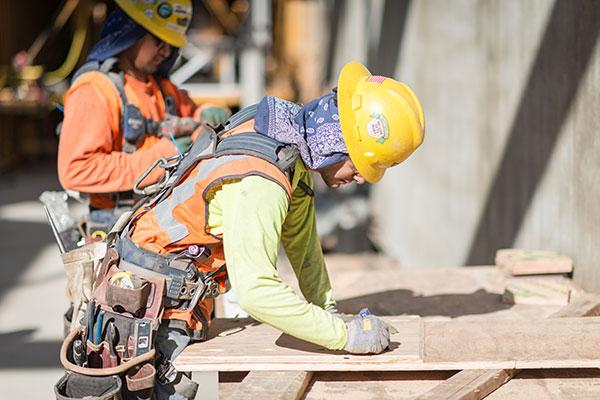helmet: (341, 63, 427, 181), (113, 1, 195, 49)
